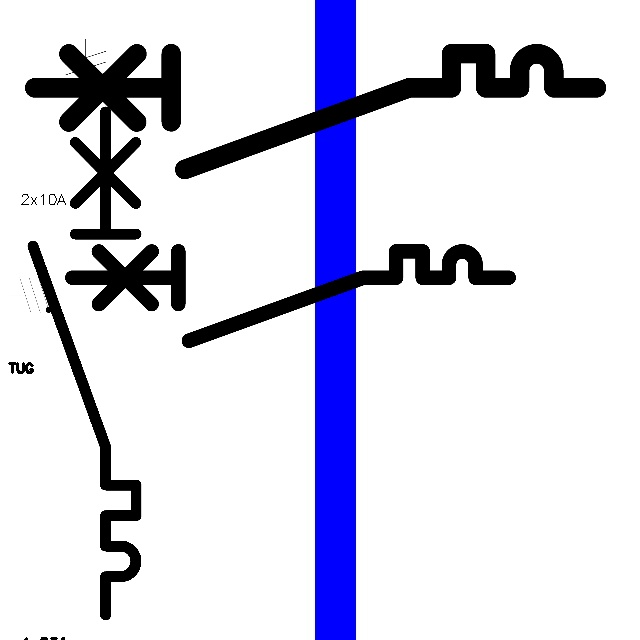interruptor_termomagnetico: (20, 39, 611, 183), (20, 98, 149, 627), (60, 240, 519, 352)
